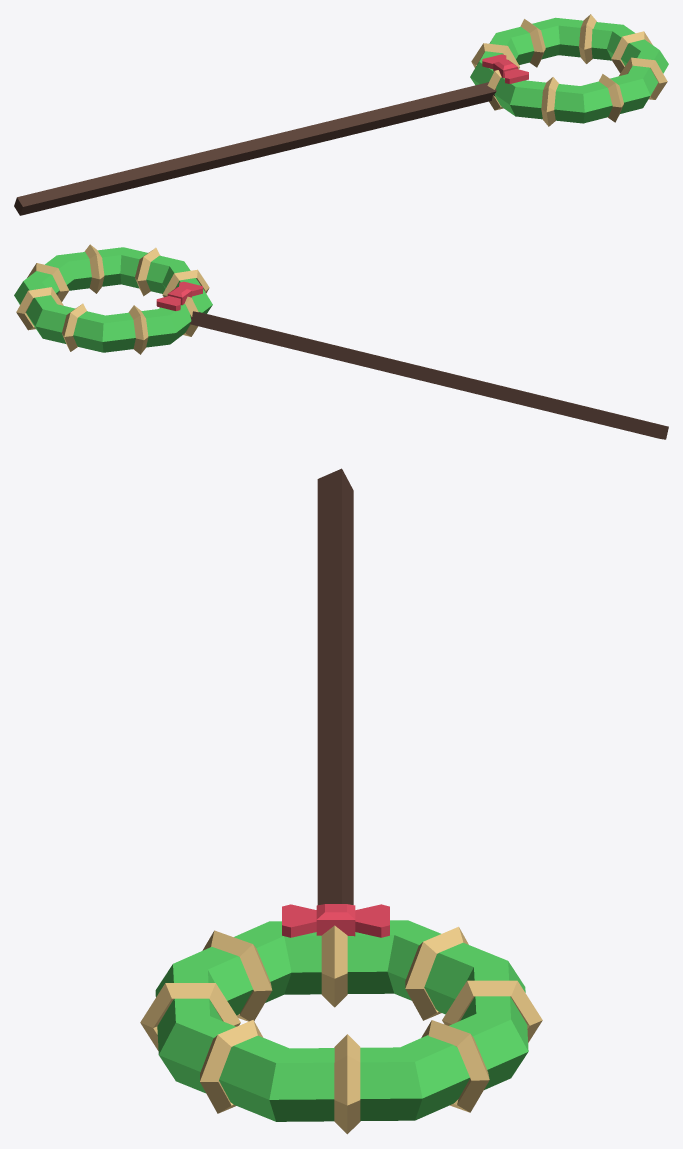
File: leafCircle.fbx
3 renders of one model, top to bottom at view 1: azimuth 30°, elevation 25°; view 2: azimuth 150°, elevation 25°; view 3: azimuth 270°, elevation 25°, orthographic. The views are drawn at different scales.
Parts seen in each view (by area): view 1: Leaf circle; view 2: Leaf circle; view 3: Leaf circle.
Boxes of the visible parts, x1,y1,x2,y2 form: Leaf circle: [14, 14, 668, 215]; Leaf circle: [14, 244, 668, 439]; Leaf circle: [140, 468, 542, 1134].
Size of the model in its own units: 902 by 60.53 by 247.
